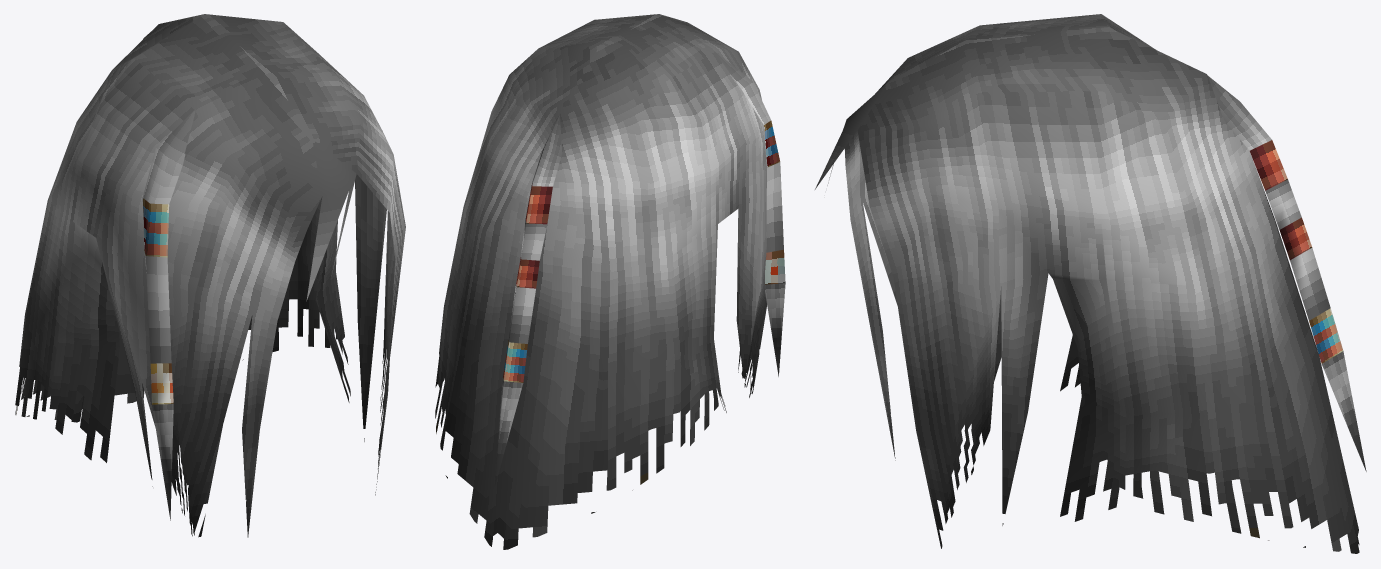
Rendered from m_hair022.obj.
3 views of the same model, side by side, from view 1: azimuth 30°, elevation 25°; view 2: azimuth 150°, elevation 25°; view 3: azimuth 270°, elevation 25° (orthographic). The views are drawn at different scales.
Parts seen in each view (by area): view 1: editpl_m-0000-1813, editpl_m-0000-1814; view 2: editpl_m-0000-1813, editpl_m-0000-1814; view 3: editpl_m-0000-1813, editpl_m-0000-1814.
Boxes of the visible parts, bbox=[...] form: editpl_m-0000-1813: bbox=[15, 14, 405, 537]; editpl_m-0000-1814: bbox=[142, 198, 173, 404]; editpl_m-0000-1813: bbox=[435, 14, 785, 549]; editpl_m-0000-1814: bbox=[503, 120, 785, 382]; editpl_m-0000-1813: bbox=[815, 14, 1366, 553]; editpl_m-0000-1814: bbox=[1249, 140, 1343, 363].
Bounding box in the file's own units: 18.57 × 29.54 × 28.06.
1 material, 1 textured.
